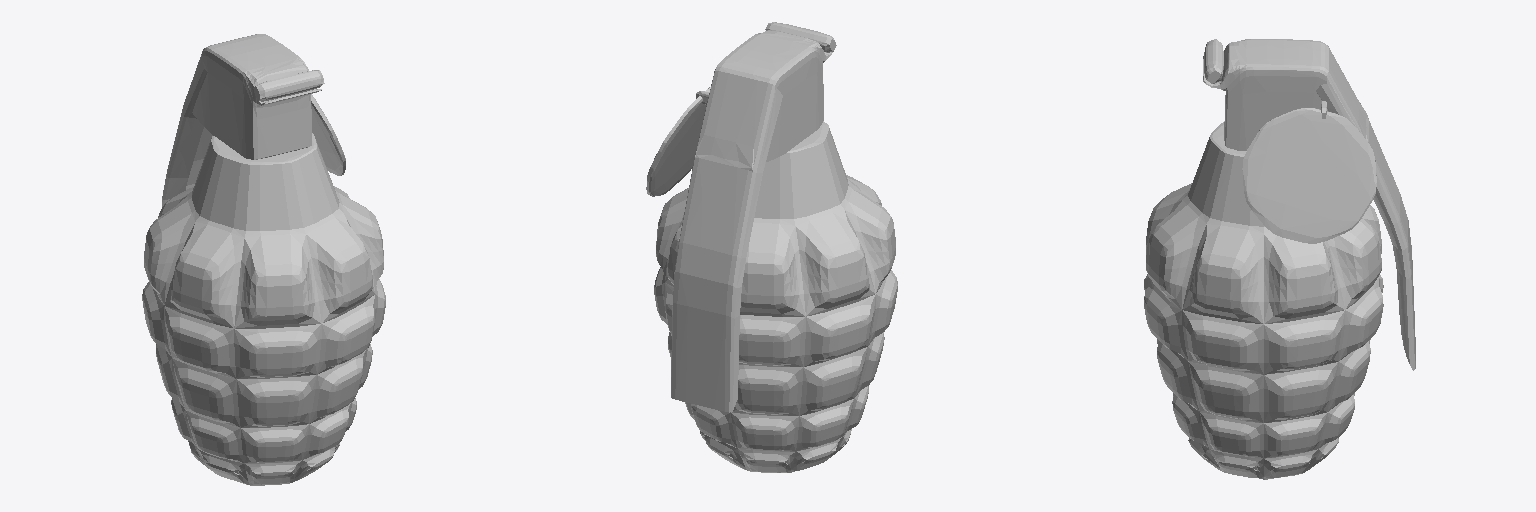
The model's file is Blast Grenade.obj.
3 renders of one model, left to right at view 1: azimuth 30°, elevation 25°; view 2: azimuth 150°, elevation 25°; view 3: azimuth 270°, elevation 25°, orthographic.
Visible parts, largest first — view 1: Blast_Grenade_Cube.007; view 2: Blast_Grenade_Cube.007; view 3: Blast_Grenade_Cube.007.
Part boxes in pixels (x1,y1,x2,y2): Blast_Grenade_Cube.007: (142, 34, 385, 485); Blast_Grenade_Cube.007: (646, 22, 897, 472); Blast_Grenade_Cube.007: (1144, 39, 1415, 479).
Bounding box in the file's own units: 1.74 × 3.27 × 1.98.